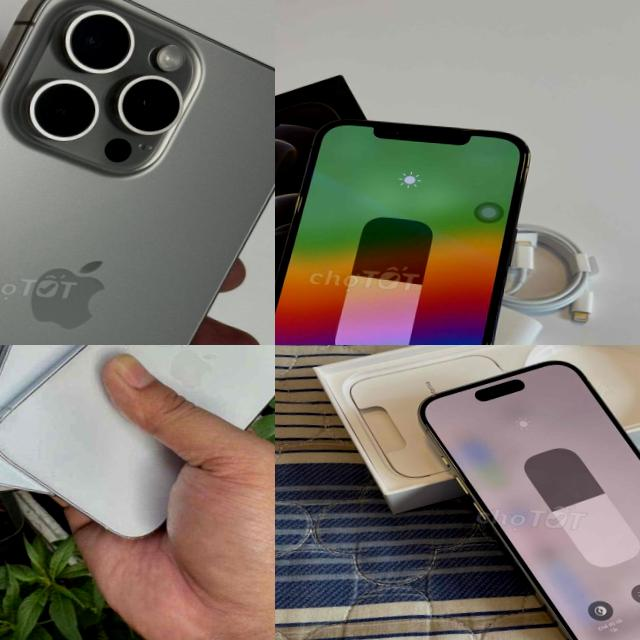gen_12_13: (275, 111, 533, 345)
gen_14: (0, 345, 140, 528)
gen_15: (0, 0, 275, 345), (354, 345, 640, 640)
